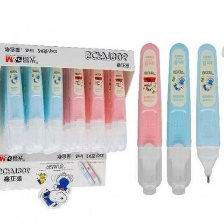book: (0, 41, 137, 211)
correction_fluid: (136, 40, 162, 195), (165, 42, 191, 195), (195, 42, 220, 185), (2, 52, 27, 152), (107, 53, 128, 152), (65, 52, 85, 151), (45, 52, 65, 150), (26, 54, 44, 149), (87, 53, 104, 151)
